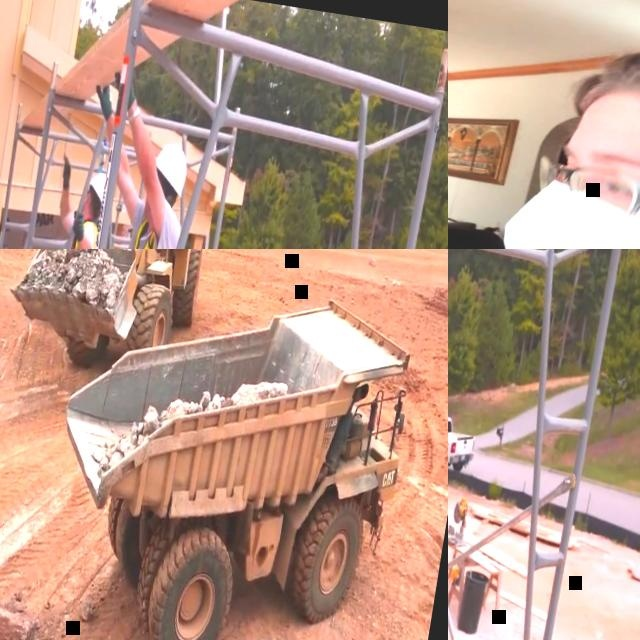Hardhat: (150, 141, 191, 197), (88, 170, 106, 200)
Mask: (490, 173, 640, 249)
NO-Hardhat: (546, 15, 640, 235)
Person: (448, 0, 640, 249), (14, 62, 232, 249), (8, 154, 111, 249)
Safety Vest: (46, 217, 99, 249)
machinery: (22, 252, 429, 640), (0, 249, 221, 397)
vehicle: (448, 412, 479, 474)
